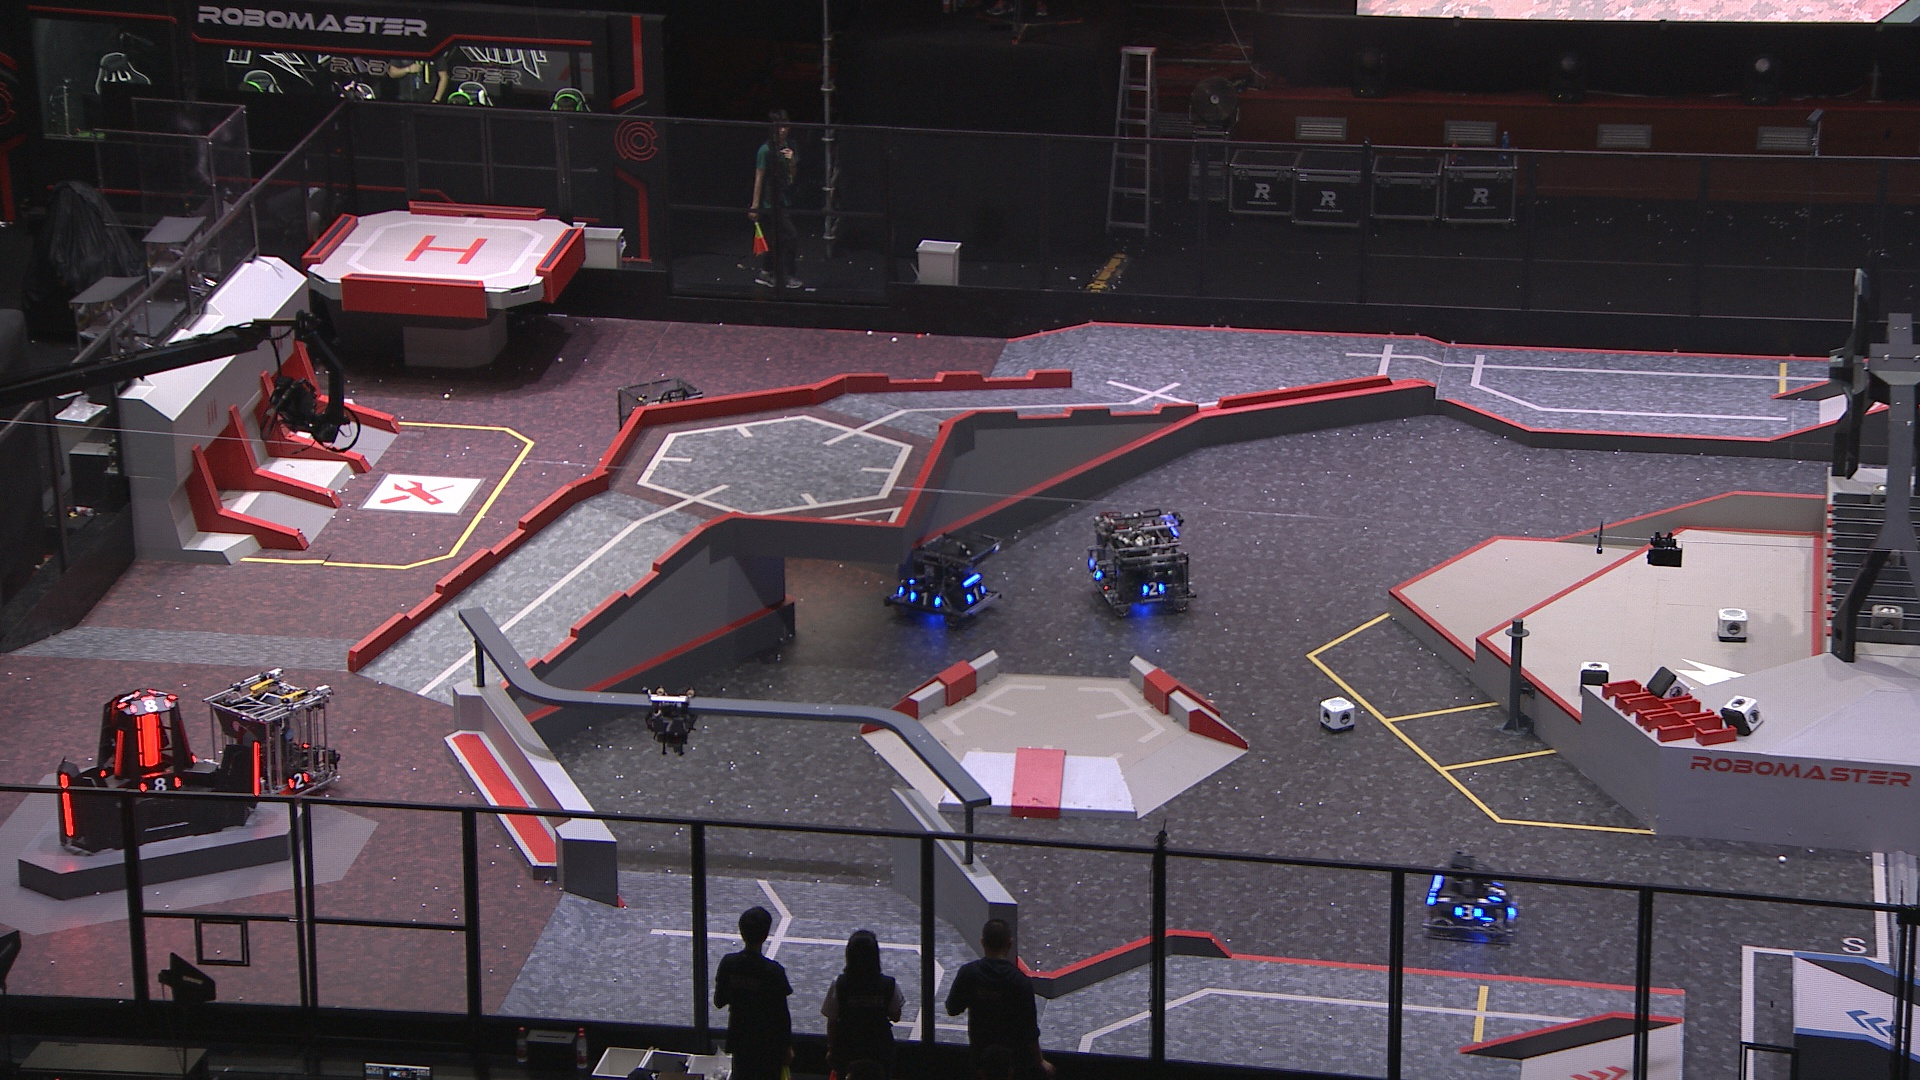armor: (135, 713, 162, 766), (58, 774, 76, 836), (135, 777, 186, 796), (125, 698, 173, 713), (109, 731, 125, 773), (1455, 902, 1484, 924), (651, 717, 688, 735), (907, 591, 942, 609), (287, 770, 311, 793), (115, 688, 138, 709), (252, 742, 261, 796), (1485, 882, 1509, 902), (1139, 582, 1166, 599), (965, 585, 986, 607), (1088, 562, 1102, 582)
base: (49, 684, 266, 851)
car: (200, 665, 342, 806), (1081, 508, 1199, 618), (880, 531, 1006, 626), (613, 376, 719, 472), (1422, 853, 1519, 945)
watcher: (644, 688, 703, 756)
